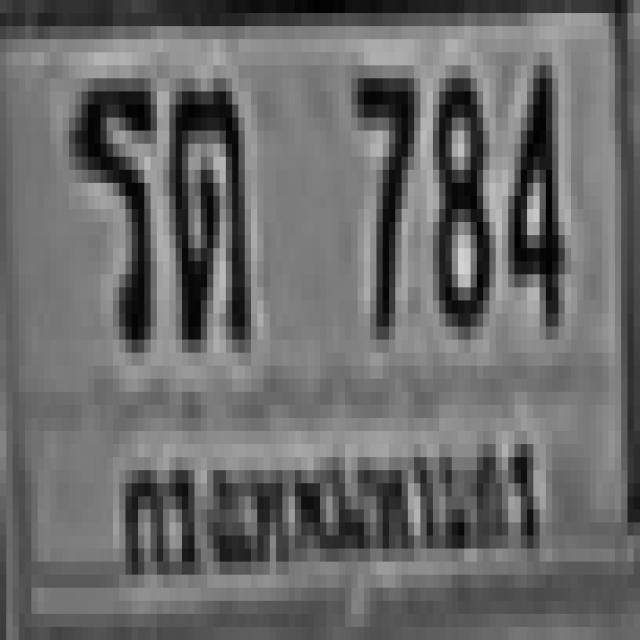30TorTao: (166, 78, 242, 340)
4: (502, 52, 558, 327)
44RorRuea: (62, 65, 150, 340)
7: (351, 66, 414, 327)
8: (433, 66, 489, 327)
Bangkok: (111, 422, 548, 578)
